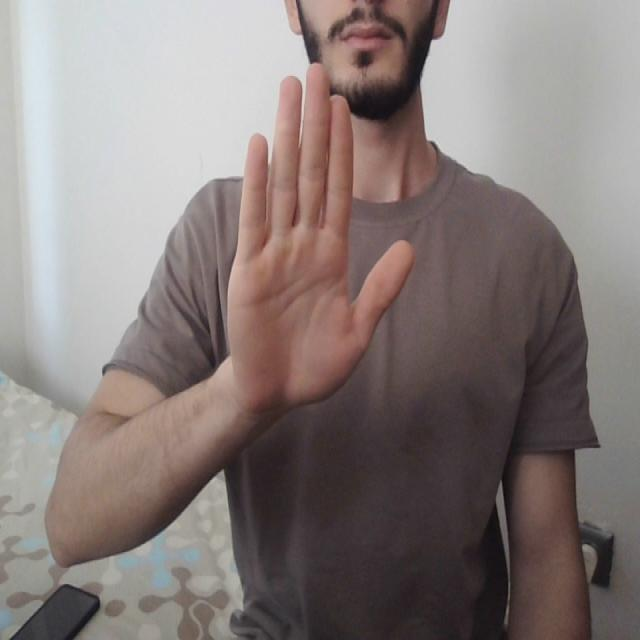Dur: (208, 51, 414, 406)
